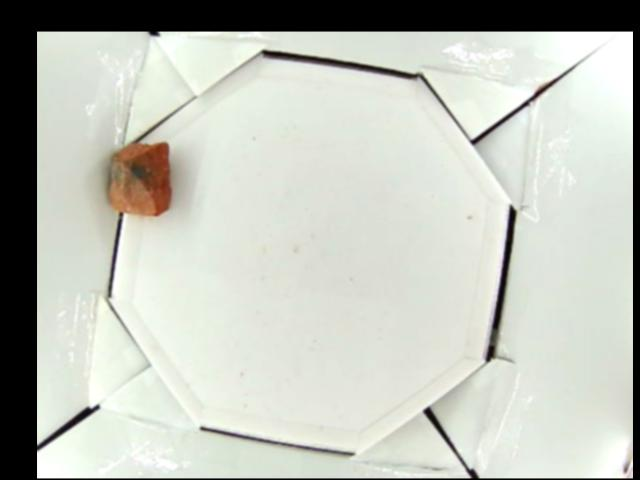Brisk: (105, 140, 173, 215)
